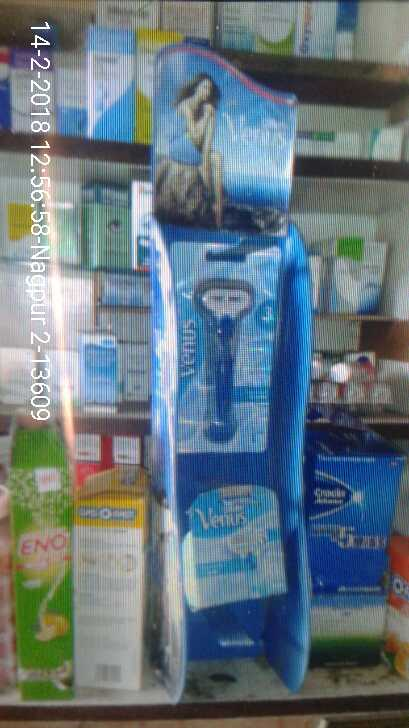venus: (166, 237, 276, 457), (177, 485, 295, 597)
